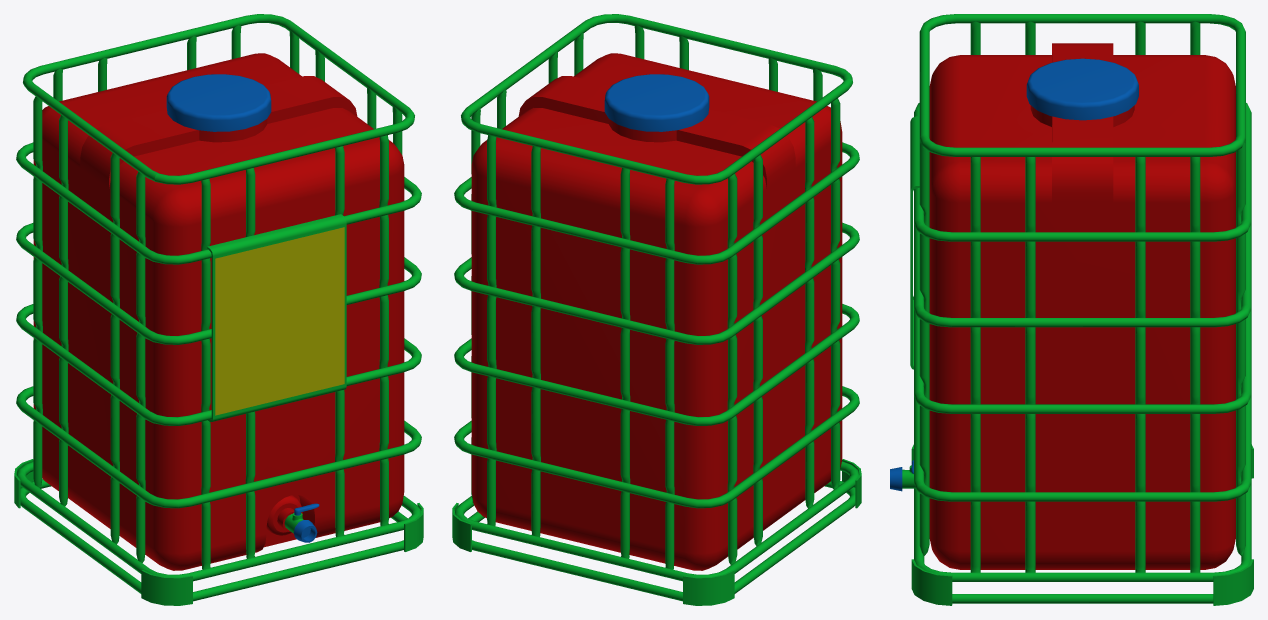
The model's file is SM_framedTank.fbx.
The picture shows the model from 3 angles, left to right: view 1: azimuth 30°, elevation 25°; view 2: azimuth 150°, elevation 25°; view 3: azimuth 270°, elevation 25°; orthographic projection. The views are drawn at different scales.
Parts seen in each view (by area): view 1: SM_framedTank; view 2: SM_framedTank; view 3: SM_framedTank.
Boxes of the visible parts, bbox=[...] form: SM_framedTank: bbox=[14, 14, 423, 605]; SM_framedTank: bbox=[452, 14, 861, 605]; SM_framedTank: bbox=[890, 14, 1253, 605].
Size of the model in its own units: 1.08 by 1.58 by 1.15.
